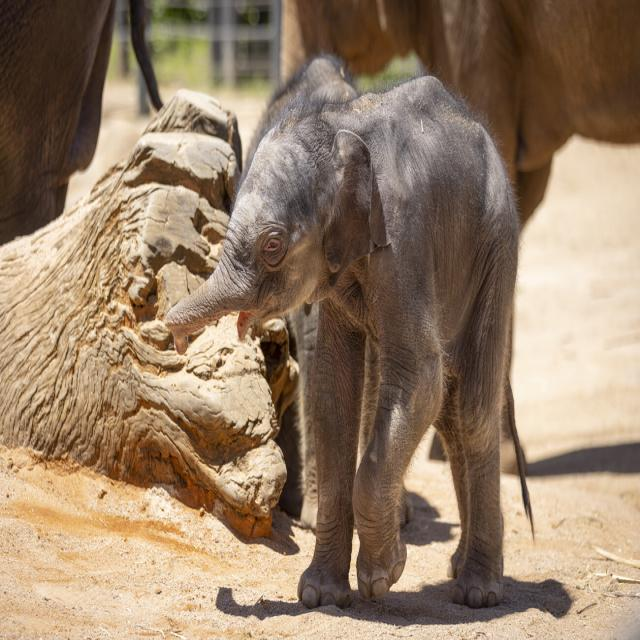Elephant: (168, 62, 546, 620)
